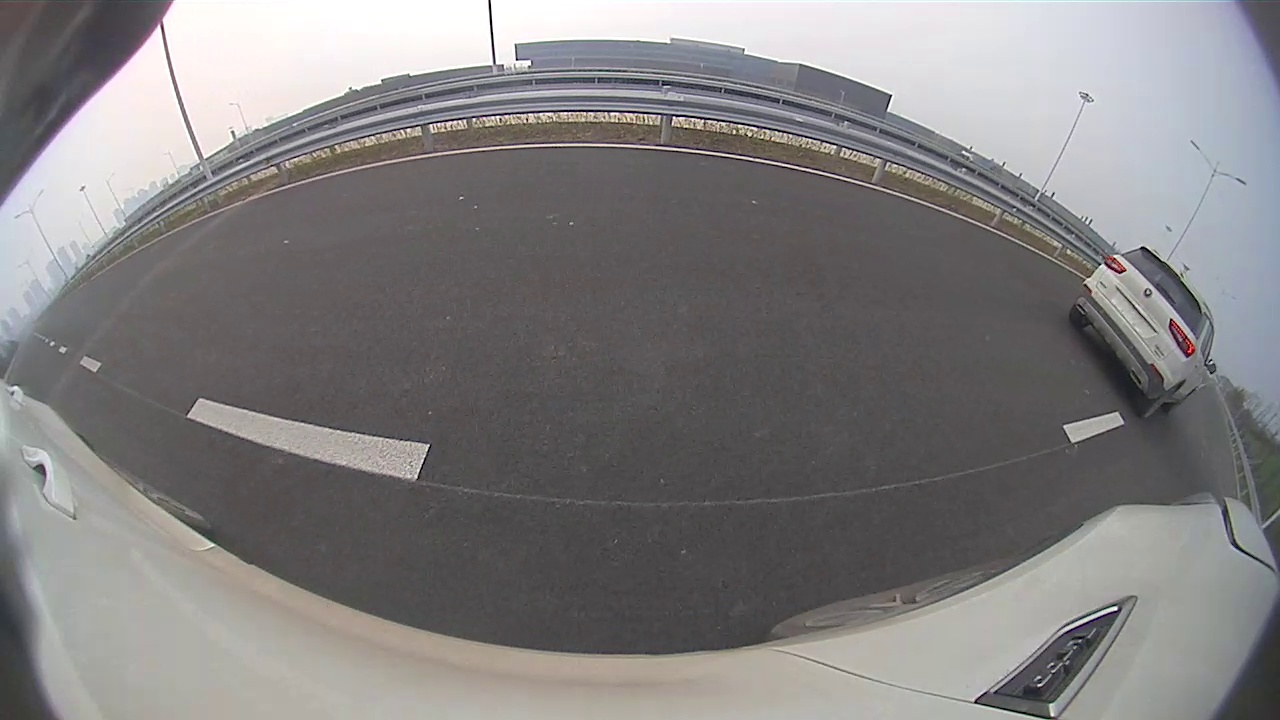car: (1070, 247, 1217, 419)
rear: (1139, 383, 1181, 421)
